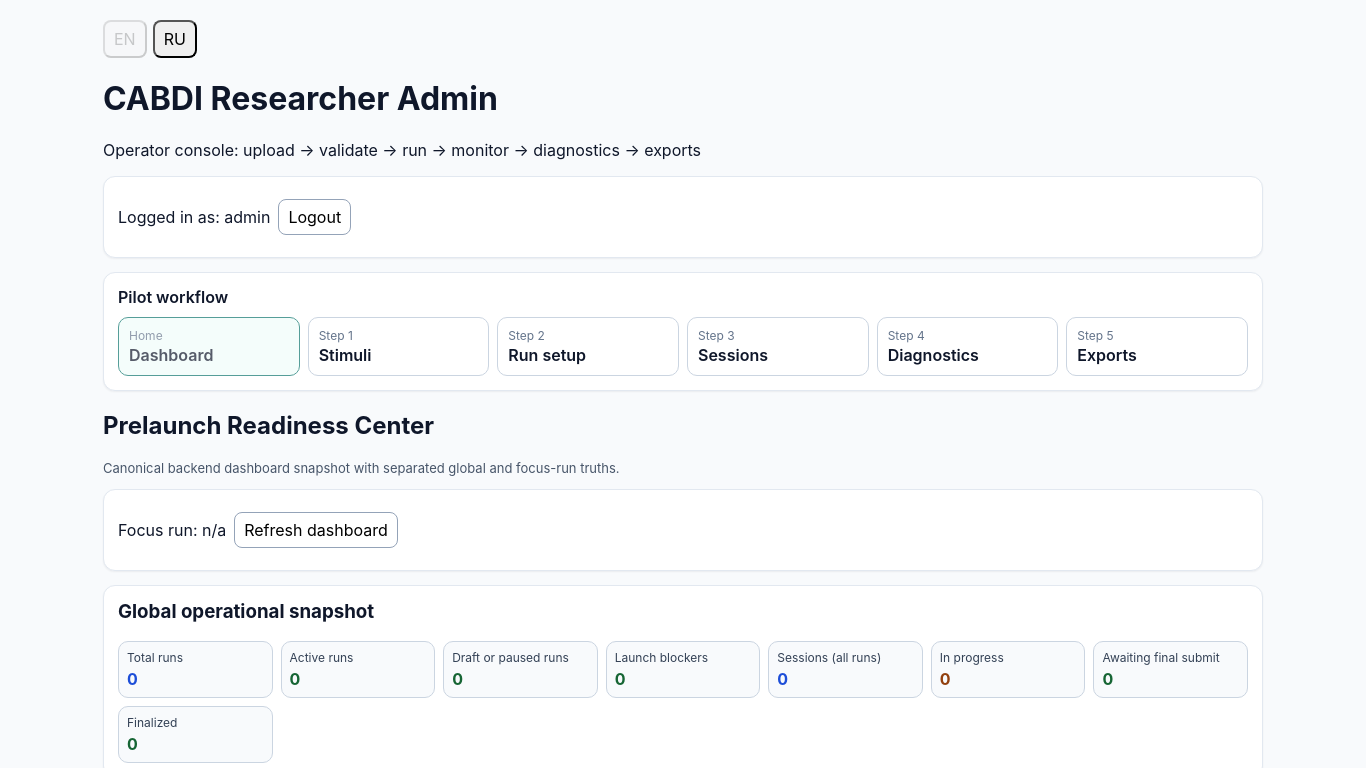
Test: researcher run details refresh invariants › keeps details interaction live across repeated details/refresh actions
Expected: the text "Logged in as: admin" is shown, [118,207,270,227]
Click the button with aria-label "Step 2: Create & Control Runs" at x=588, y=346, box [497,317,679,376]
(page scrolled)
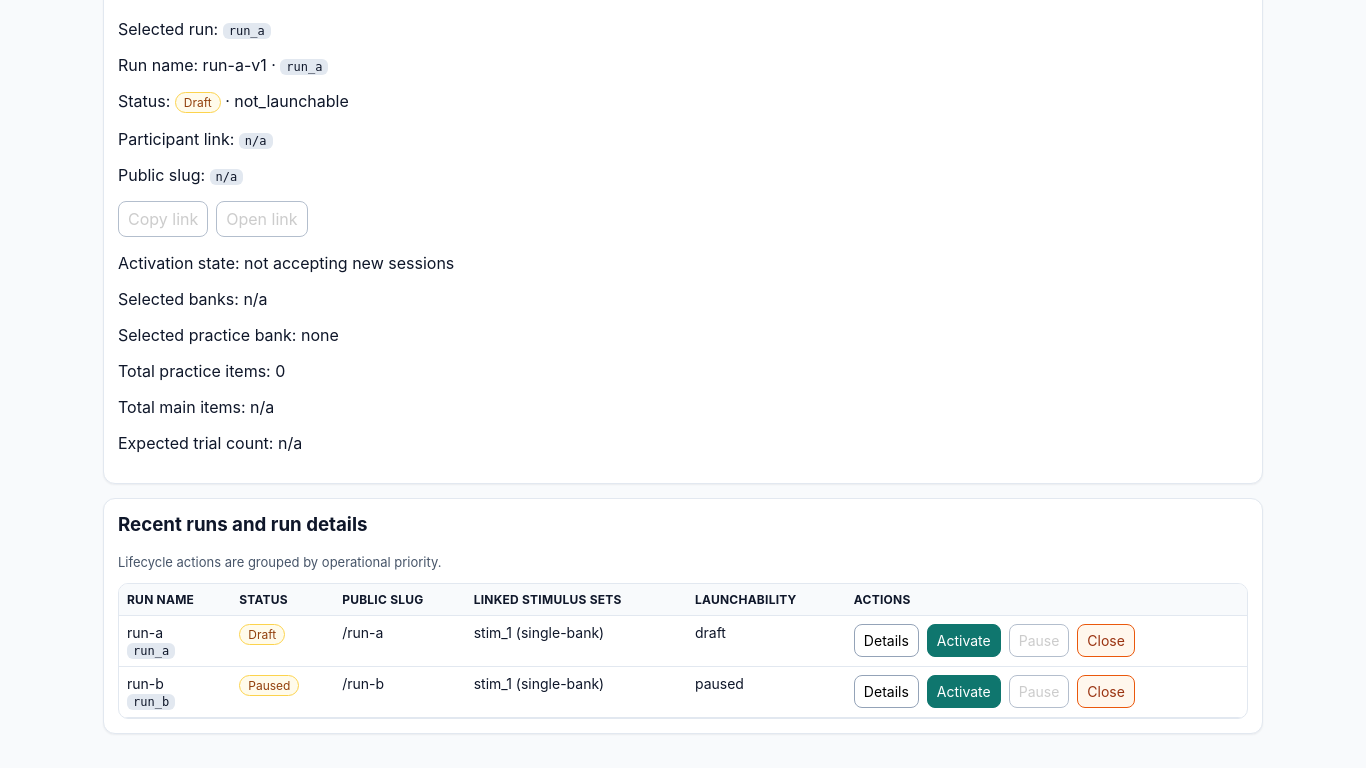
Expected: the text "Run name: run-a-v1 · run_a" is shown, [118,55,328,75]
Click the button "Details" in the row of "run_b" at x=886, y=692, box [854,675,919,708]
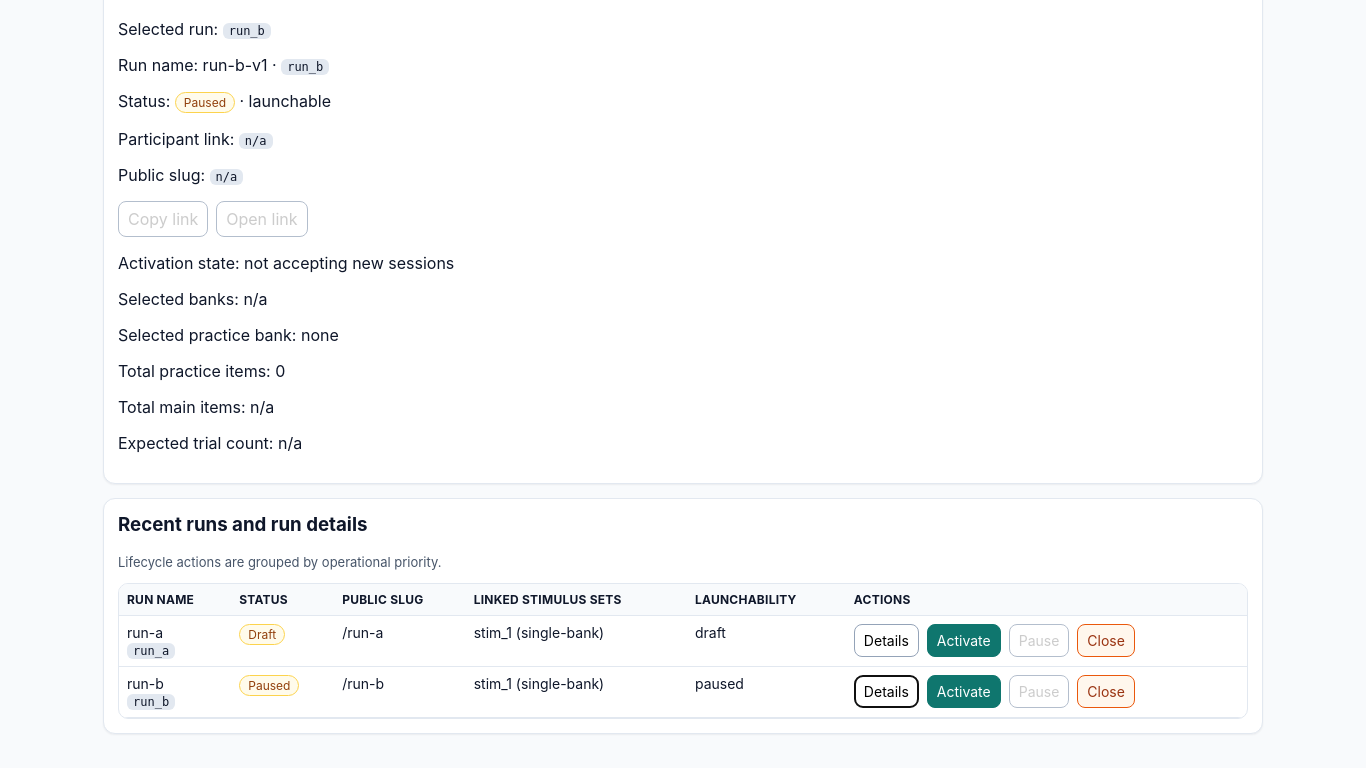
Expected: the text "Run name: run-b-v1 · run_b" is shown, [118,55,329,75]
Click the button "Details" in the row of "run_a" at x=886, y=641, box [854,624,919,657]
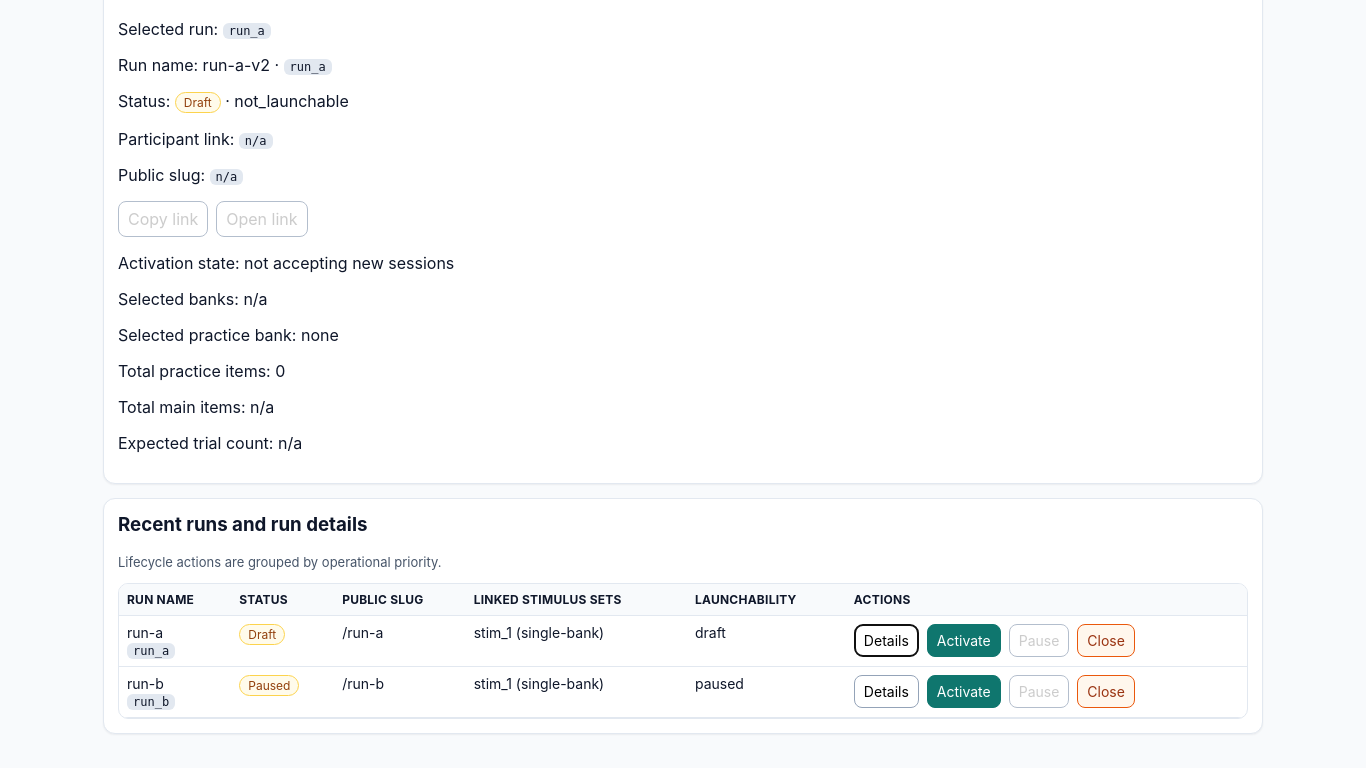
Expected: the text "Run name: run-a-v2 · run_a" is shown, [118,55,332,75]
